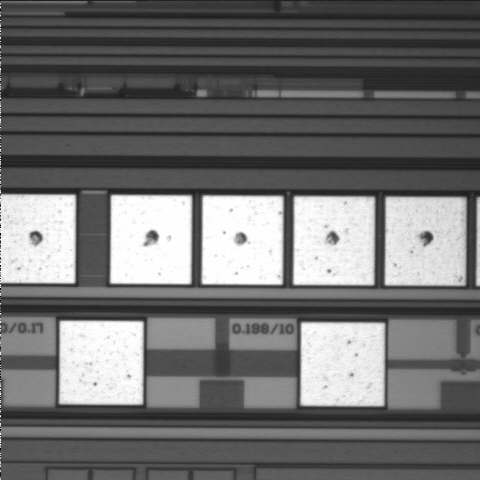pad: (110, 195, 192, 284), (293, 196, 375, 285), (202, 196, 283, 285), (385, 197, 466, 285), (59, 321, 143, 405), (301, 322, 385, 406)
